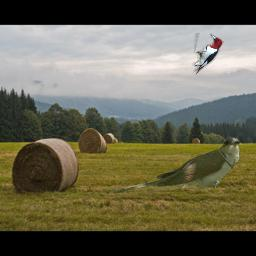Cuckoo: (109, 136, 240, 196)
Woodpecker: (191, 33, 225, 75)
